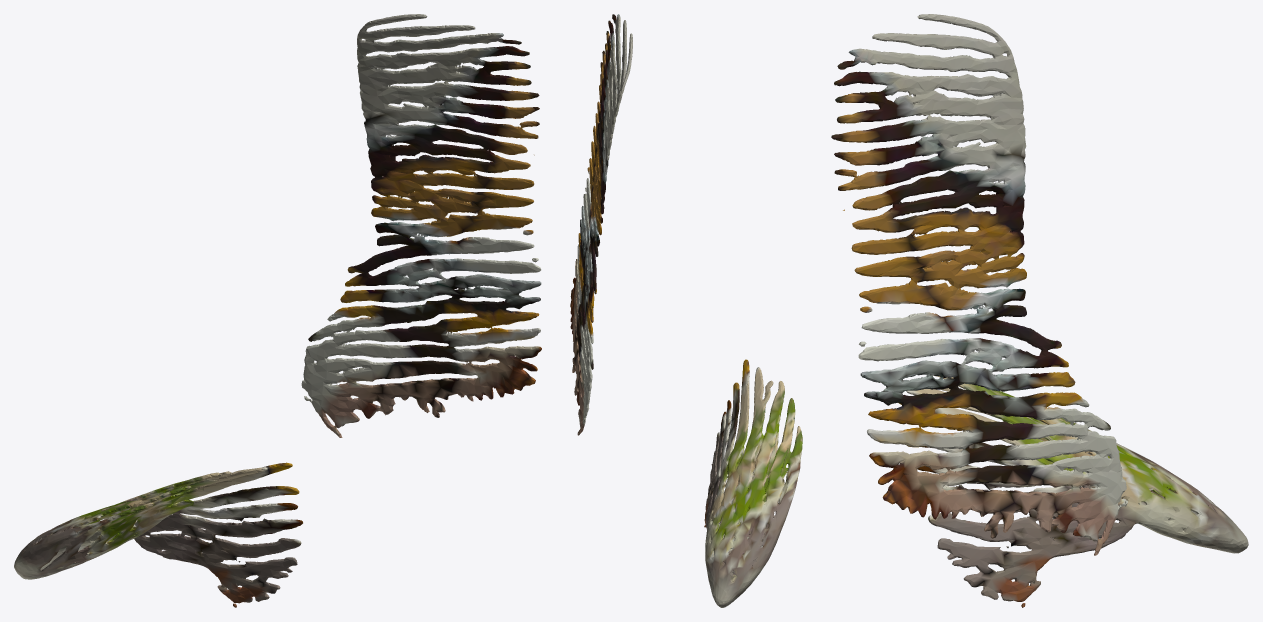
The model's file is mimic.glb.
3 renders of one model, left to right at view 1: azimuth 30°, elevation 25°; view 2: azimuth 150°, elevation 25°; view 3: azimuth 270°, elevation 25°, orthographic. The views are drawn at different scales.
Visible parts, largest first — view 1: world; view 2: world; view 3: world.
Part boxes in pixels (left/top/right/bottom): world: left=14, top=14, right=541, bottom=607; world: left=570, top=14, right=802, bottom=607; world: left=831, top=14, right=1248, bottom=607.
Bounding box in the file's own units: 0.6711 × 1 × 0.554.
